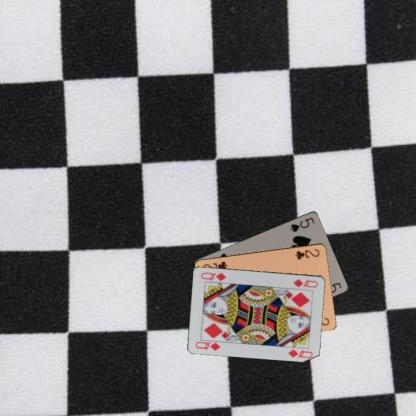2c: (293, 246, 321, 261)
5s: (288, 214, 315, 233)
Qd: (193, 337, 224, 352), (291, 276, 319, 289)
